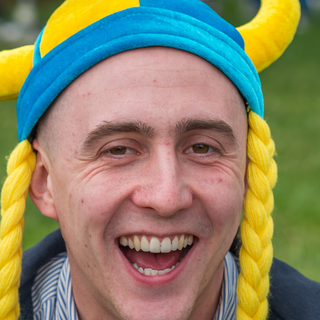eye: (92, 138, 147, 163), (176, 135, 224, 163)
